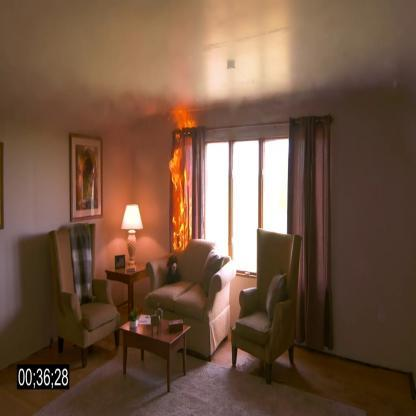fire: (167, 100, 204, 250)
smoke: (121, 197, 148, 238)
